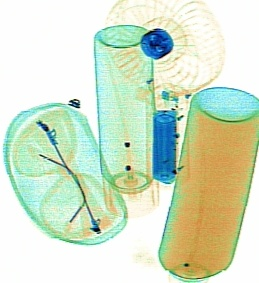pressure: (156, 85, 254, 279), (89, 23, 163, 218)
